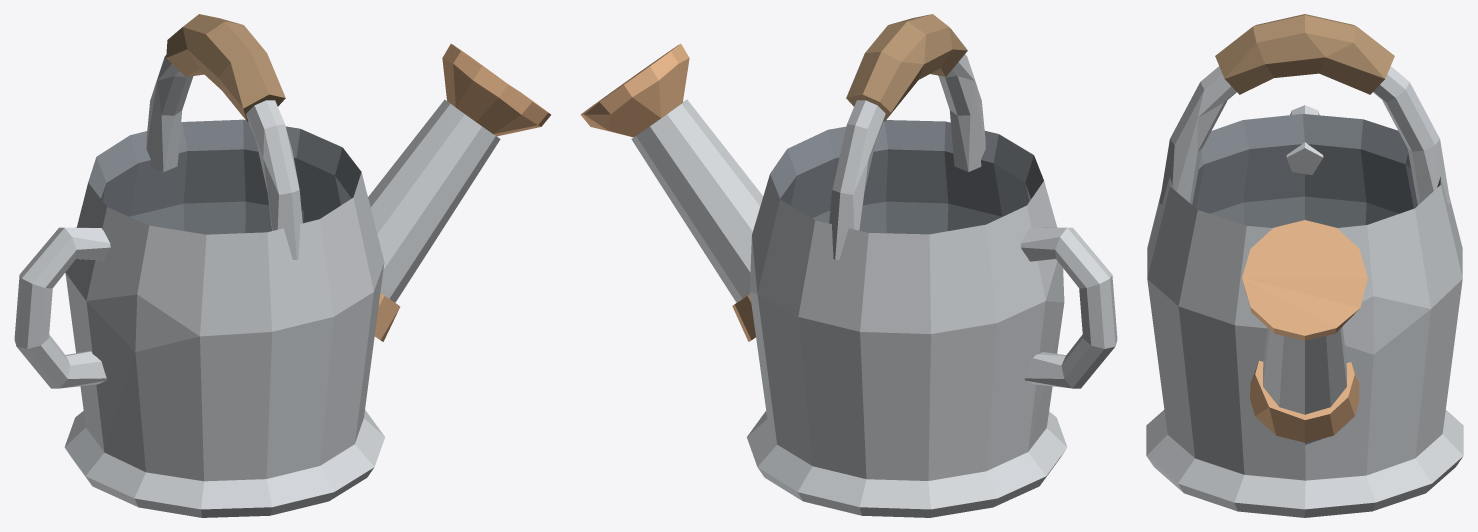
The model's file is 33-Agricultura_regadera.glb.
3 renders of one model, left to right at view 1: azimuth 30°, elevation 25°; view 2: azimuth 150°, elevation 25°; view 3: azimuth 270°, elevation 25°, orthographic.
Parts seen in each view (by area): view 1: SM_Regadera_M_Regadera_Galvanizado_Regadera_Interior_Regader, SM_Regadera_M_Regadera_Galvanizado, SM_Regadera_M_Regadera_Madera, SM_Regadera_M_Regadera_Cobre; view 2: SM_Regadera_M_Regadera_Galvanizado_Regadera_Interior_Regader, SM_Regadera_M_Regadera_Galvanizado, SM_Regadera_M_Regadera_Madera, SM_Regadera_M_Regadera_Cobre; view 3: SM_Regadera_M_Regadera_Galvanizado_Regadera_Interior_Regader, SM_Regadera_M_Regadera_Galvanizado, SM_Regadera_M_Regadera_Cobre, SM_Regadera_M_Regadera_Madera.
Boxes of the visible parts, bbox=[...] form: SM_Regadera_M_Regadera_Galvanizado_Regadera_Interior_Regader: bbox=[64, 119, 385, 517]; SM_Regadera_M_Regadera_Galvanizado: bbox=[14, 55, 500, 388]; SM_Regadera_M_Regadera_Madera: bbox=[166, 14, 285, 121]; SM_Regadera_M_Regadera_Cobre: bbox=[374, 43, 551, 341]; SM_Regadera_M_Regadera_Galvanizado_Regadera_Interior_Regader: bbox=[746, 120, 1067, 517]; SM_Regadera_M_Regadera_Galvanizado: bbox=[631, 54, 1117, 388]; SM_Regadera_M_Regadera_Madera: bbox=[846, 14, 967, 121]; SM_Regadera_M_Regadera_Cobre: bbox=[580, 43, 755, 341]; SM_Regadera_M_Regadera_Galvanizado_Regadera_Interior_Regader: bbox=[1146, 114, 1463, 517]; SM_Regadera_M_Regadera_Galvanizado: bbox=[1159, 66, 1450, 444]; SM_Regadera_M_Regadera_Cobre: bbox=[1242, 220, 1367, 442]; SM_Regadera_M_Regadera_Madera: bbox=[1215, 14, 1394, 94].
Size of the model in its own units: 0.4673 by 0.368 by 0.2418.
